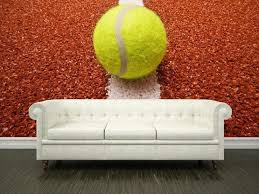tennis_ball: (92, 3, 168, 81)
